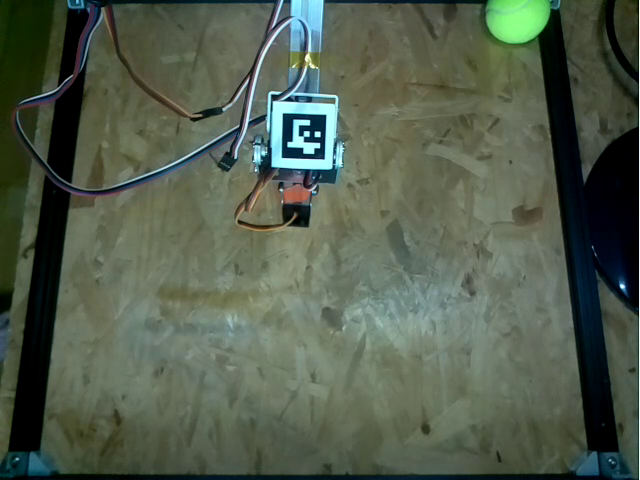tennis_ball: (484, 1, 552, 43)
